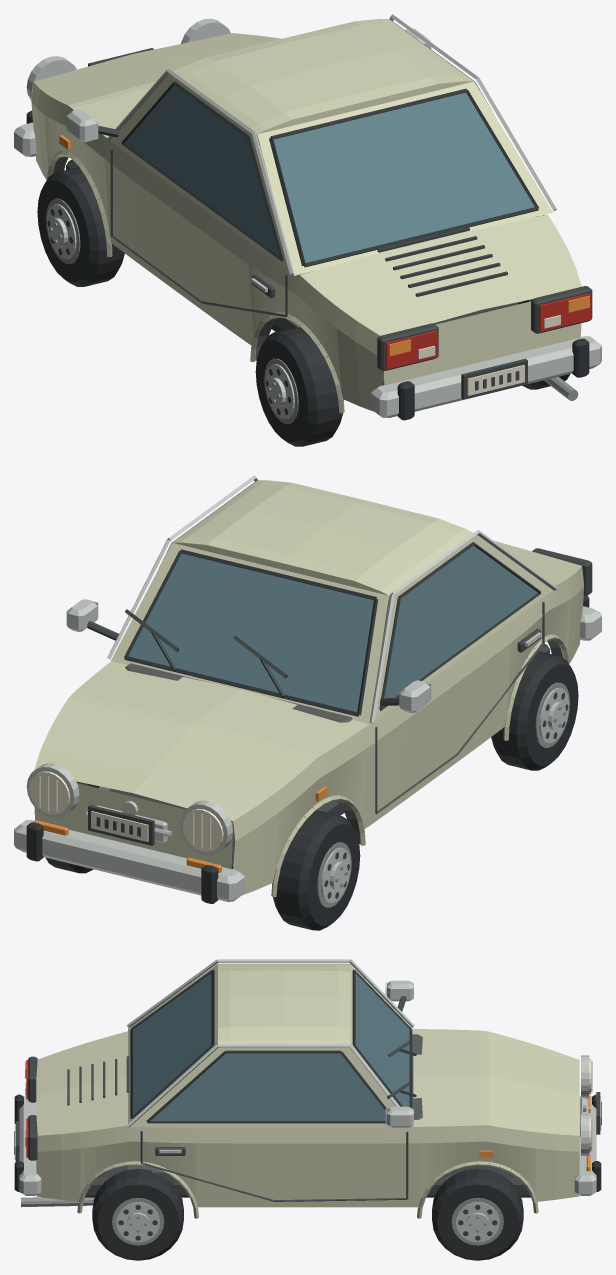
File: 07_microcar.glb
3 renders of one model, top to bottom at view 1: azimuth 30°, elevation 25°; view 2: azimuth 150°, elevation 25°; view 3: azimuth 270°, elevation 25°, orthographic. The views are drawn at different scales.
Visible parts, largest first — view 1: Trunk, Body, Door_Front_L, Exterior_Details, Wheel_RL, Hood, Wheel_FL; view 2: Body, Door_Front_L, Hood, Exterior_Details, Wheel_FL, Wheel_RL, Trunk, Door_Front_R, Interior; view 3: Door_Front_R, Body, Trunk, Hood, Exterior_Details, Wheel_FR, Wheel_RR, Interior, Door_Front_L.
Boxes of the visible parts, x1,y1,x2,y2 form: Trunk: [257, 81, 581, 385]; Body: [31, 18, 578, 413]; Door_Front_L: [66, 73, 293, 345]; Exterior_Details: [14, 14, 601, 420]; Wheel_RL: [255, 327, 343, 446]; Hood: [34, 33, 281, 140]; Wheel_FL: [37, 167, 124, 286]; Body: [34, 480, 584, 897]; Door_Front_L: [370, 535, 552, 825]; Hood: [34, 661, 368, 820]; Exterior_Details: [14, 475, 601, 903]; Wheel_FL: [272, 810, 360, 930]; Wheel_RL: [491, 651, 578, 770]; Trunk: [493, 540, 581, 585]; Door_Front_R: [66, 481, 255, 640]; Interior: [125, 595, 389, 722]; Door_Front_R: [130, 1047, 413, 1207]; Body: [21, 963, 579, 1218]; Trunk: [36, 964, 217, 1135]; Hood: [413, 1029, 579, 1135]; Exterior_Details: [14, 959, 601, 1195]; Wheel_FR: [432, 1168, 523, 1260]; Wheel_RR: [92, 1168, 183, 1260]; Interior: [128, 1034, 422, 1183]; Door_Front_L: [385, 980, 413, 1011].
Size of the model in its own units: 1.86 by 1.4 by 3.46.
